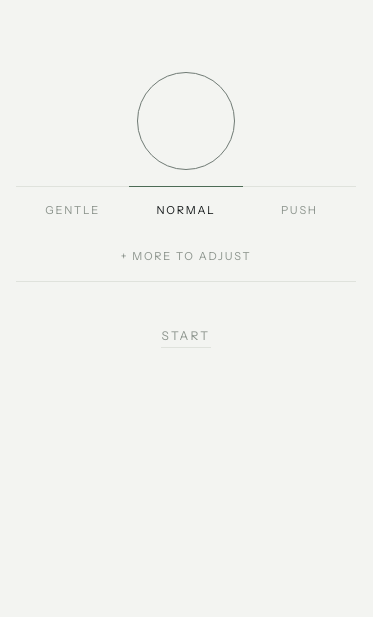
Test: ConversationView mic control (P2 placement) › requests mic access and shows Ready once granted
What coordinates should you click on to do the following:
click the button "+ More to adjust"
I would click on:
 (186, 256)
Its box is [121,241,251,271].
(page scrolled)
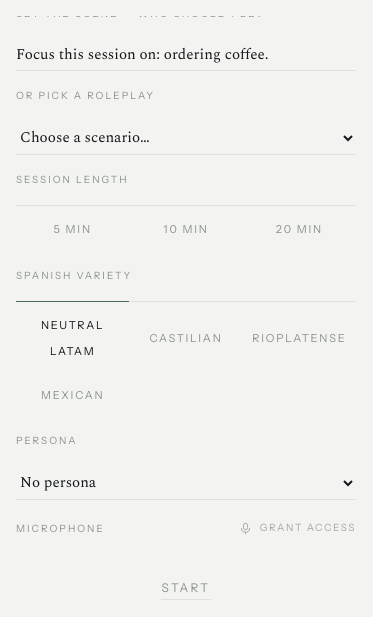
What coordinates should you click on to do the following:
click the button "Grant access"
I would click on:
 (297, 529)
Its box is [239,512,356,546].
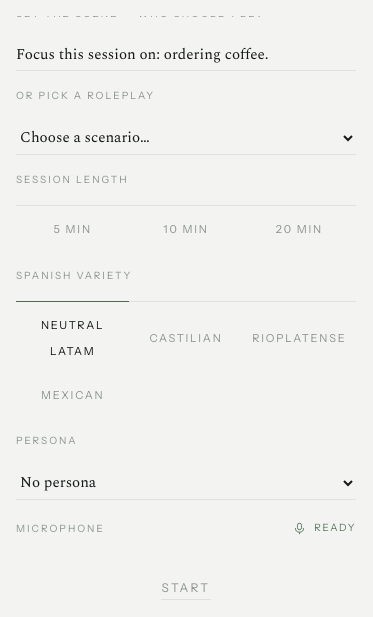
Expected: the button "Ready" is shown, [293,512,356,546]
